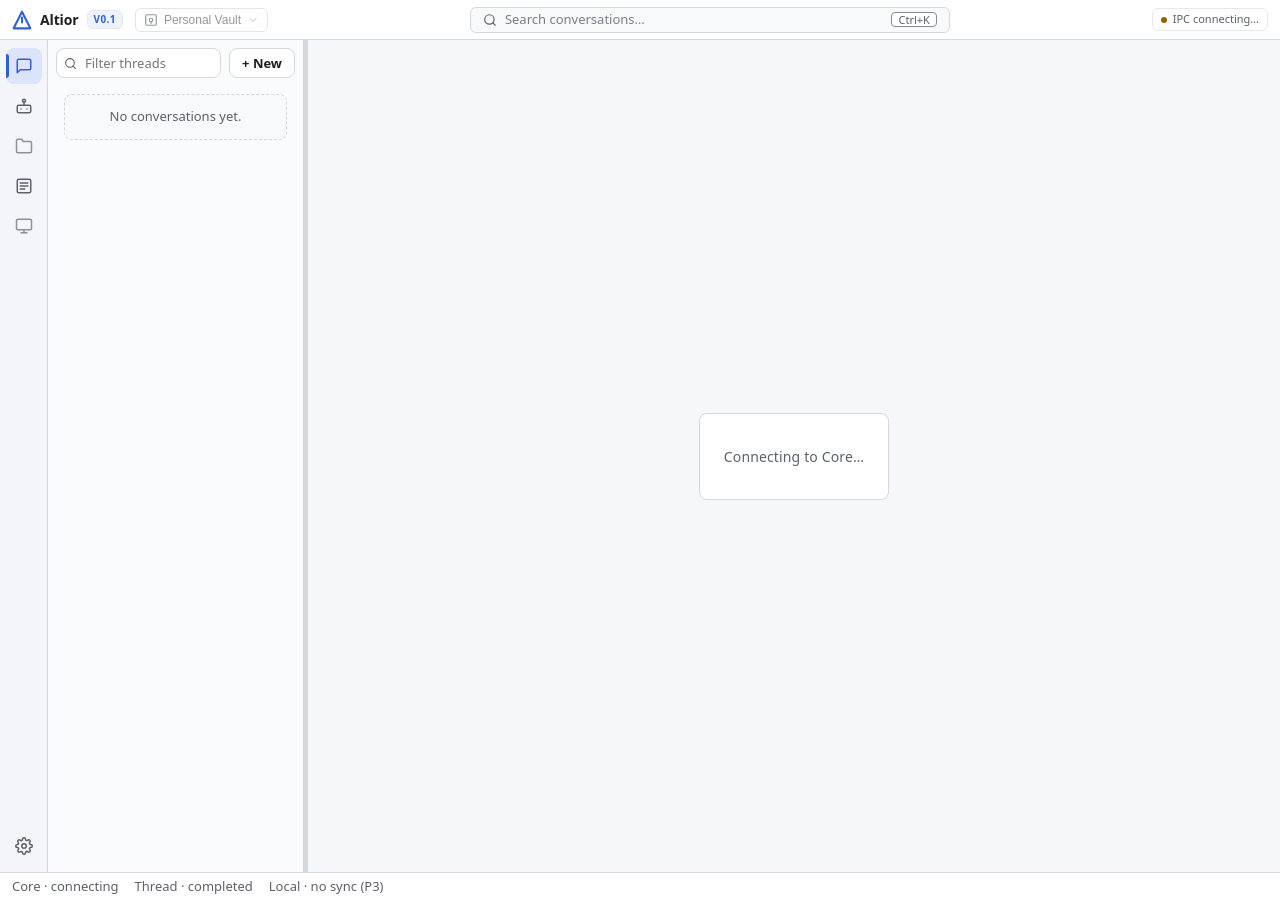
it: P2.4 Context & Memory Product Wiring Evidence (TASKS.md §A14) › 5. Selecting a thread from Memory returns to the thread workbench
Step 1. Click the button with test id "rail-memory" → (24, 186), box x1=6 y1=168 x2=42 y2=204
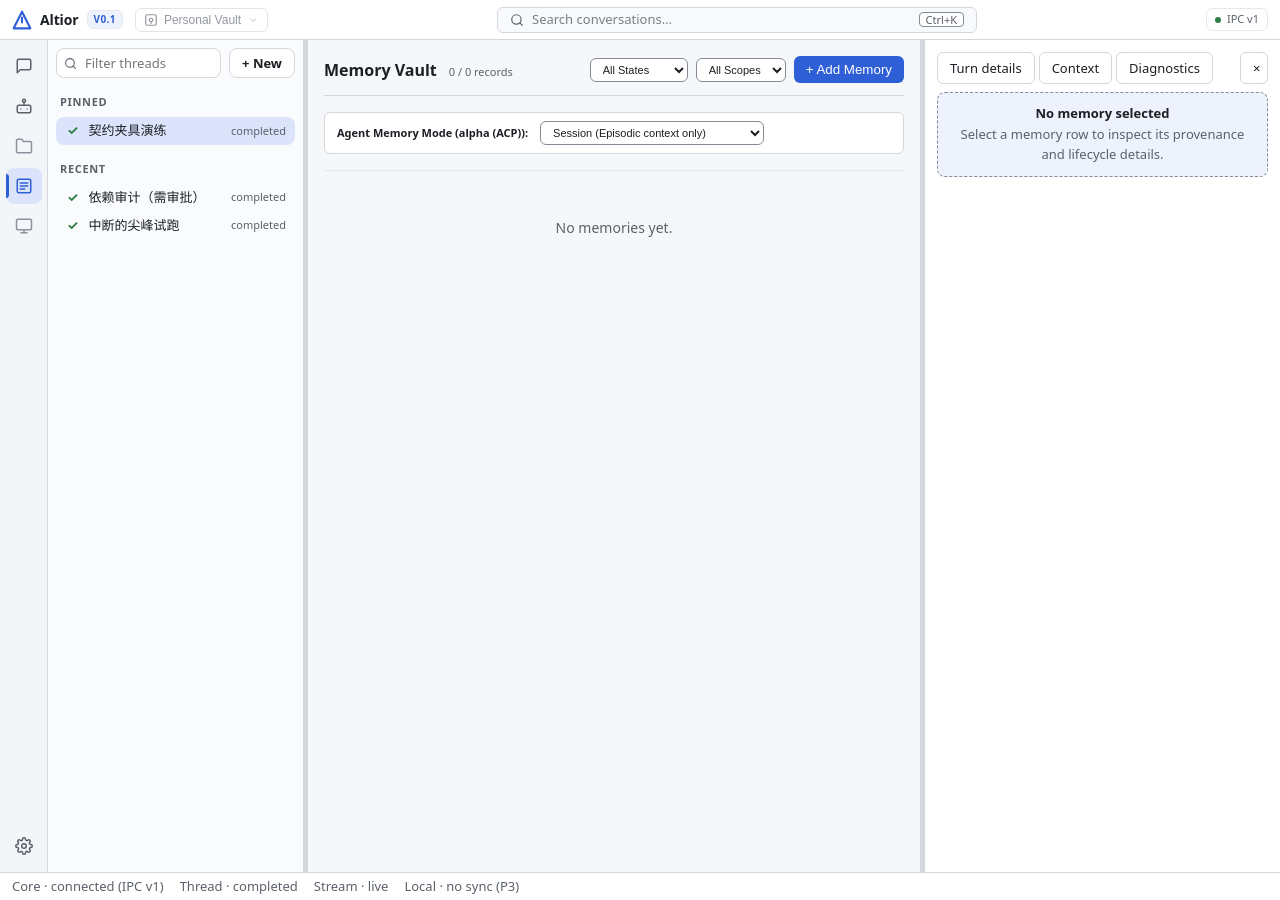
Expected: the element with test id "memory-pane" is shown, x1=308 y1=40 x2=920 y2=872
Step 2. Click the button with test id "thread-thr_fixture000000001" → (176, 130), box x1=56 y1=116 x2=295 y2=144
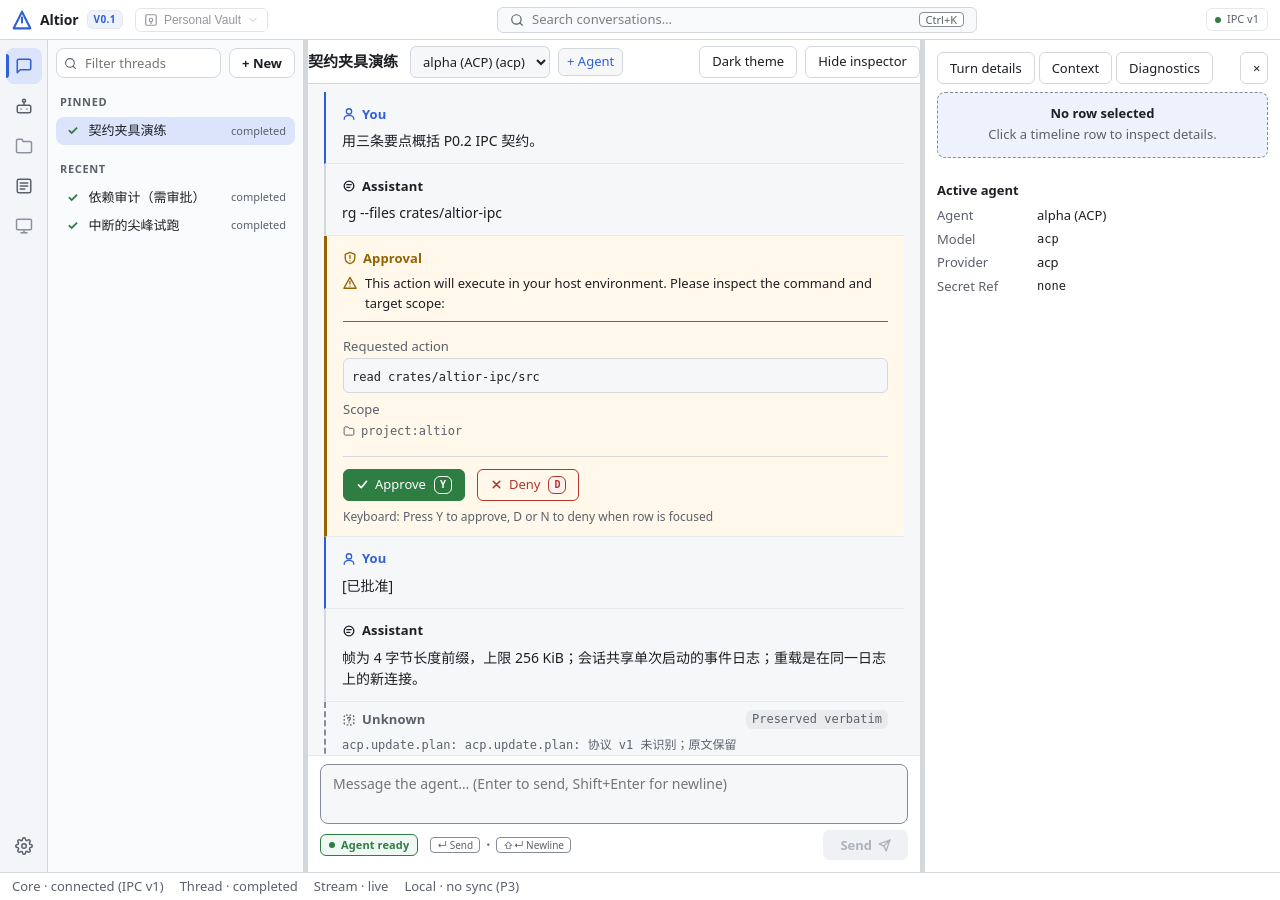
Expected: the element with test id "memory-pane" is gone
Expected: the text "用三条要点概括 P0.2 IPC 契约。" is shown, x1=342 y1=131 x2=543 y2=150
